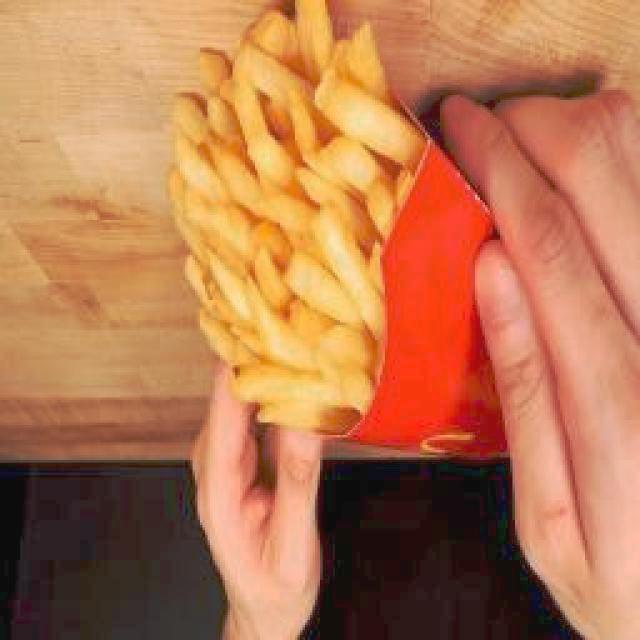french fries: (169, 0, 424, 427)
